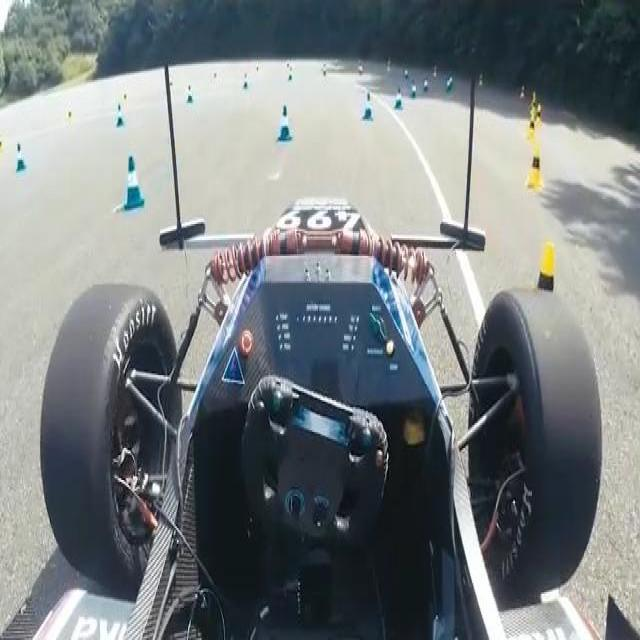blue_cone: (120, 149, 152, 220), (273, 98, 298, 144), (362, 90, 376, 120), (395, 82, 404, 112), (411, 76, 416, 101), (425, 73, 427, 103)
yellow_cone: (537, 224, 559, 299), (526, 130, 546, 186), (530, 85, 546, 124)
